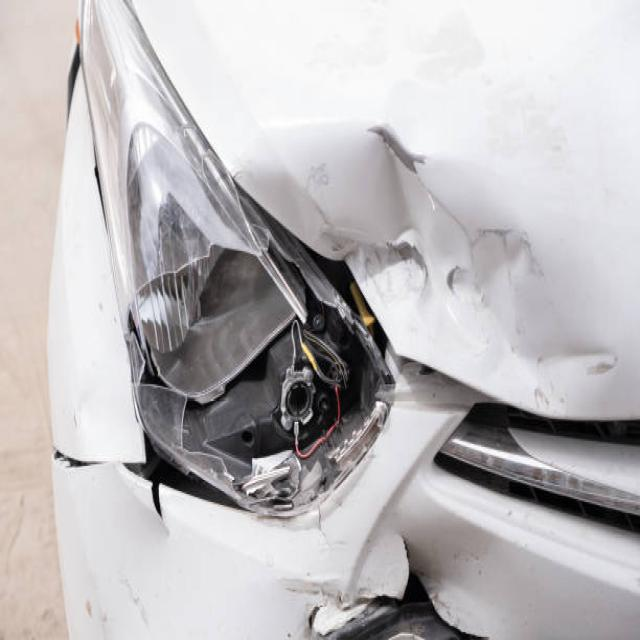Head Light: (104, 136, 446, 594)
